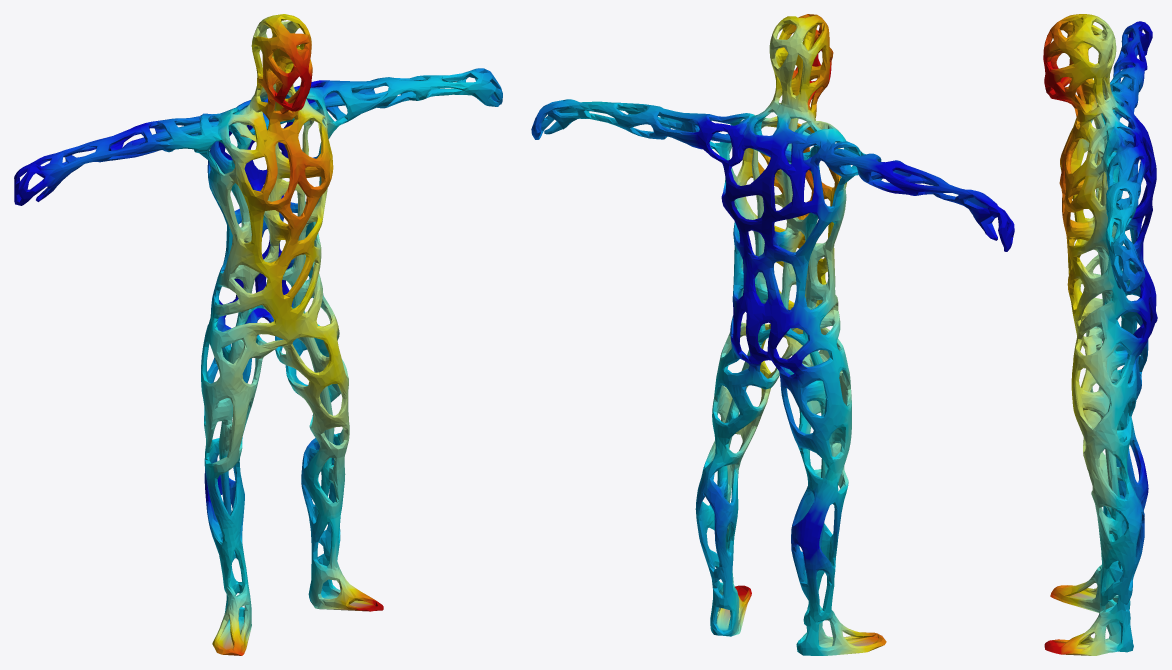
Rendered from holey_ours.glb.
3 renders of one model, left to right at view 1: azimuth 30°, elevation 25°; view 2: azimuth 150°, elevation 25°; view 3: azimuth 270°, elevation 25°, orthographic.
Parts seen in each view (by area): view 1: holey_t.obj; view 2: holey_t.obj; view 3: holey_t.obj.
Boxes of the visible parts, x1,y1,x2,y2 form: holey_t.obj: (14,14,502,655); holey_t.obj: (531,14,1014,655); holey_t.obj: (1043,14,1157,655).
Size of the model in its own units: 1.39 by 1.7 by 0.2895.
